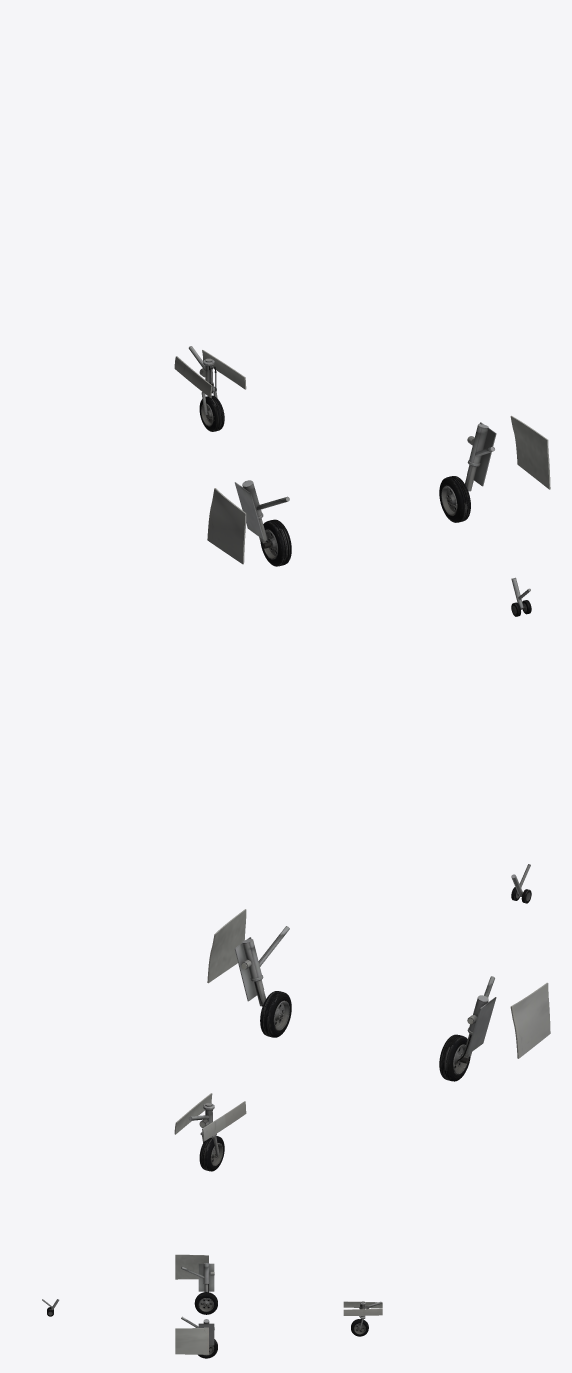
File: e_draken_gear.glb
3 views of the same model, one above another, from view 1: azimuth 30°, elevation 25°; view 2: azimuth 150°, elevation 25°; view 3: azimuth 270°, elevation 25° (orthographic). The views are drawn at different scales.
Visible parts, largest first — view 1: body|DR_paint; view 2: body|DR_paint; view 3: body|DR_paint.
Boxes of the visible parts, x1=… form: body|DR_paint: x1=174, y1=346, x2=550, y2=616; body|DR_paint: x1=174, y1=864, x2=550, y2=1171; body|DR_paint: x1=42, y1=1254, x2=382, y2=1358.
Bounding box in the file's own units: 5.07 × 4.22 × 15.35.
1 material, 1 textured.
